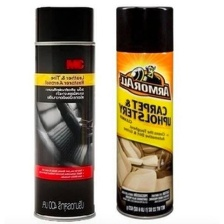aerosol_cans: (27, 2, 101, 224), (112, 2, 176, 221)
